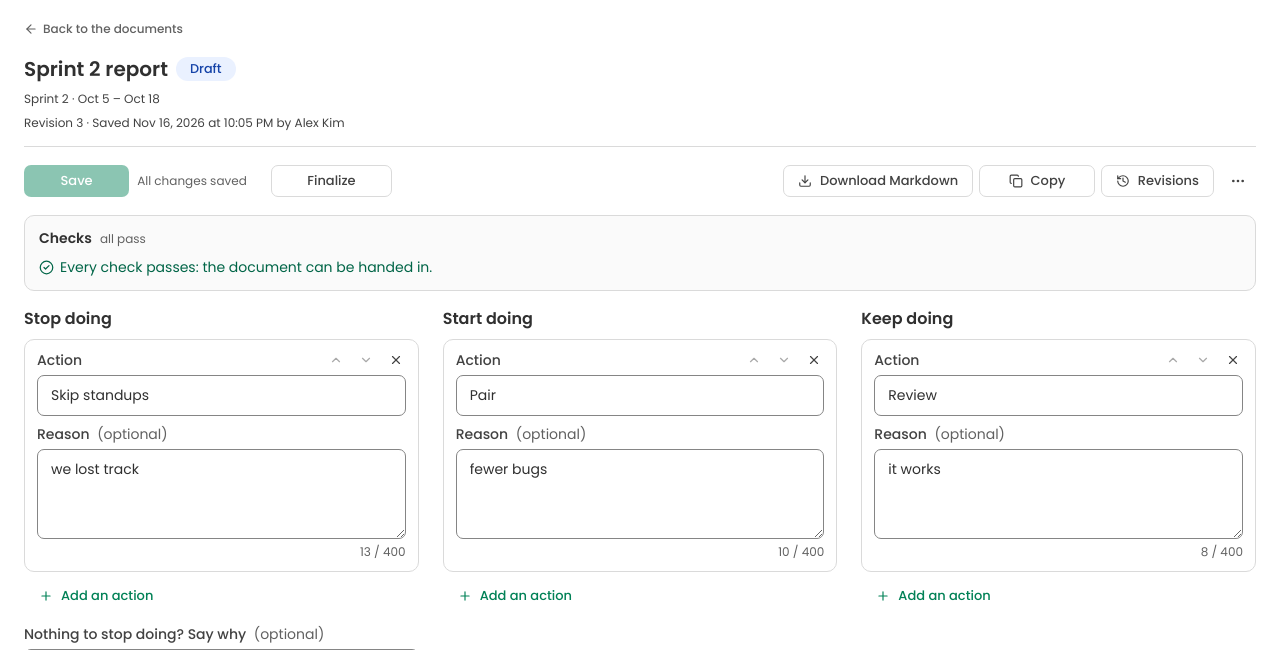
Test: DocumentPage: a team member on the head › names the fields a save would be refused for
Clear the field named "Action 1, Start doing": (640, 396) 456,375 -> 824,416
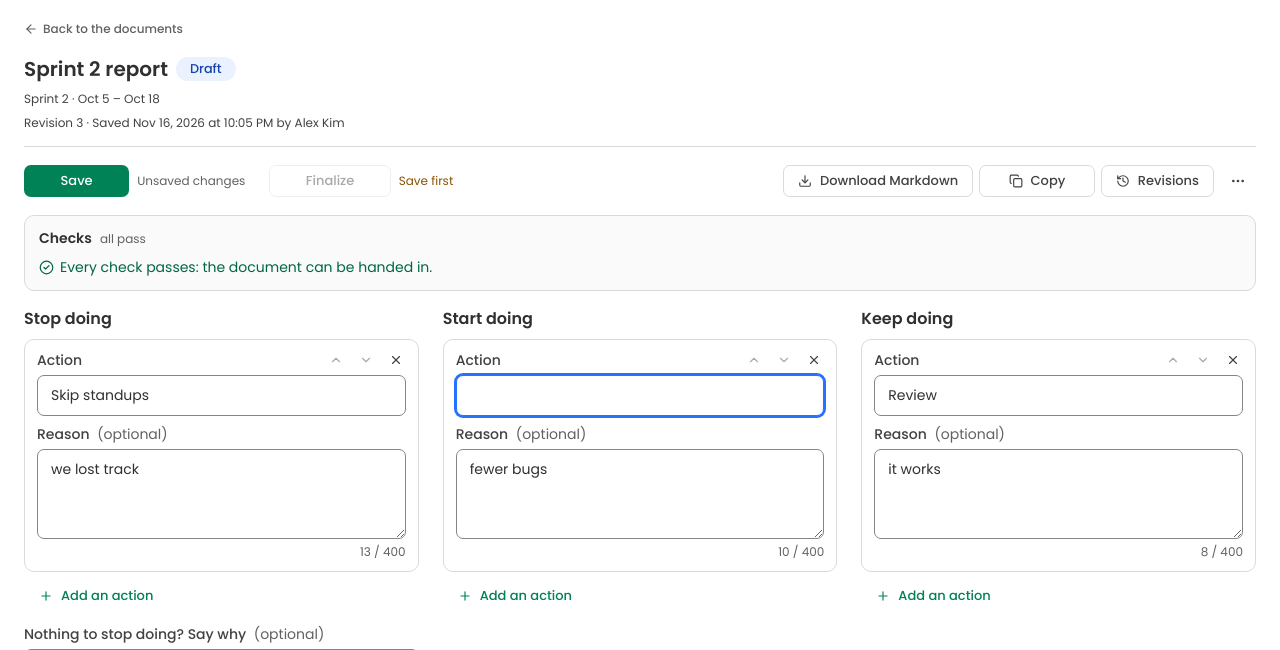
In the text box named "Reason 1, Start doing (optional)": (640, 494) 456,449 -> 824,539, type "!"
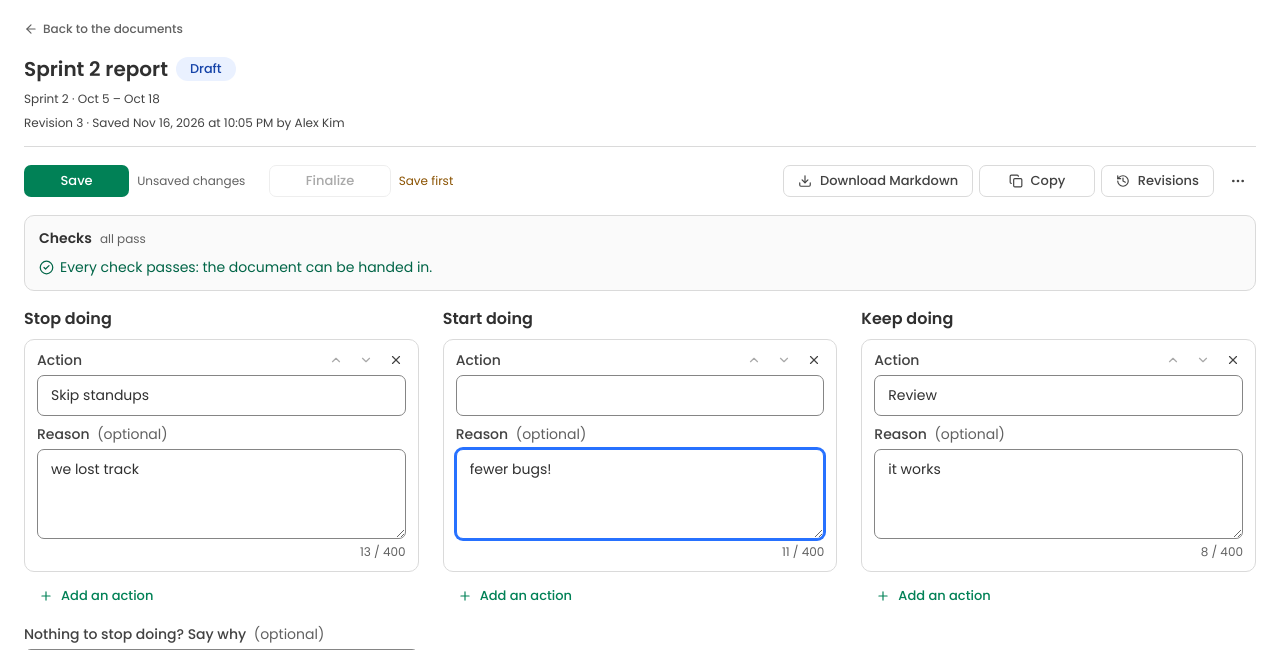
Click the button "Save": (77, 181) 24,165 -> 129,197
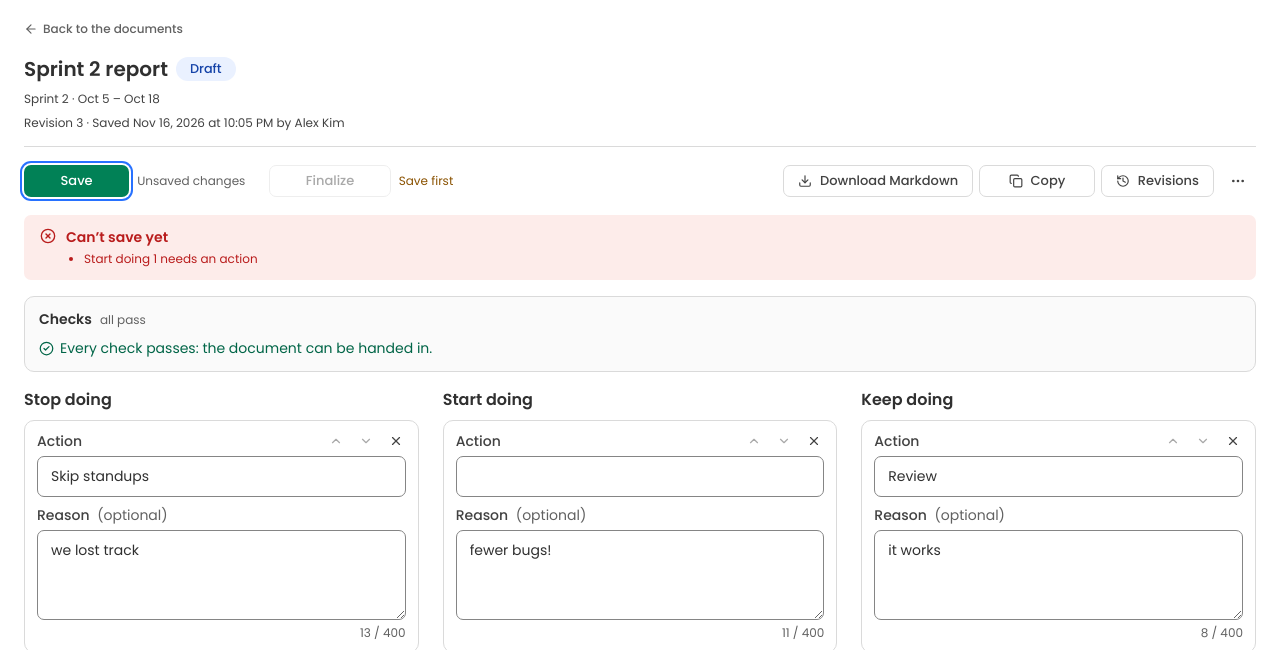
Expected: the message shows "Can’t save yet", 66,227 -> 168,247
Expected: the message shows "Start doing 1 needs an action", 84,250 -> 258,267
